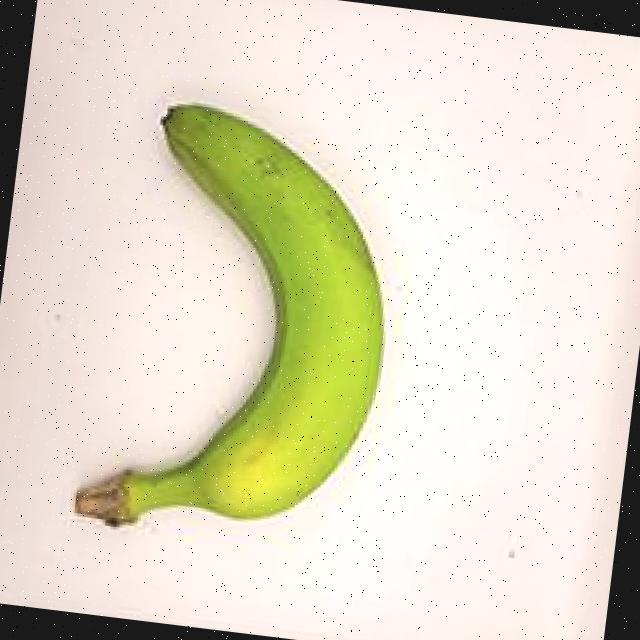Unripe: (29, 62, 457, 587)
